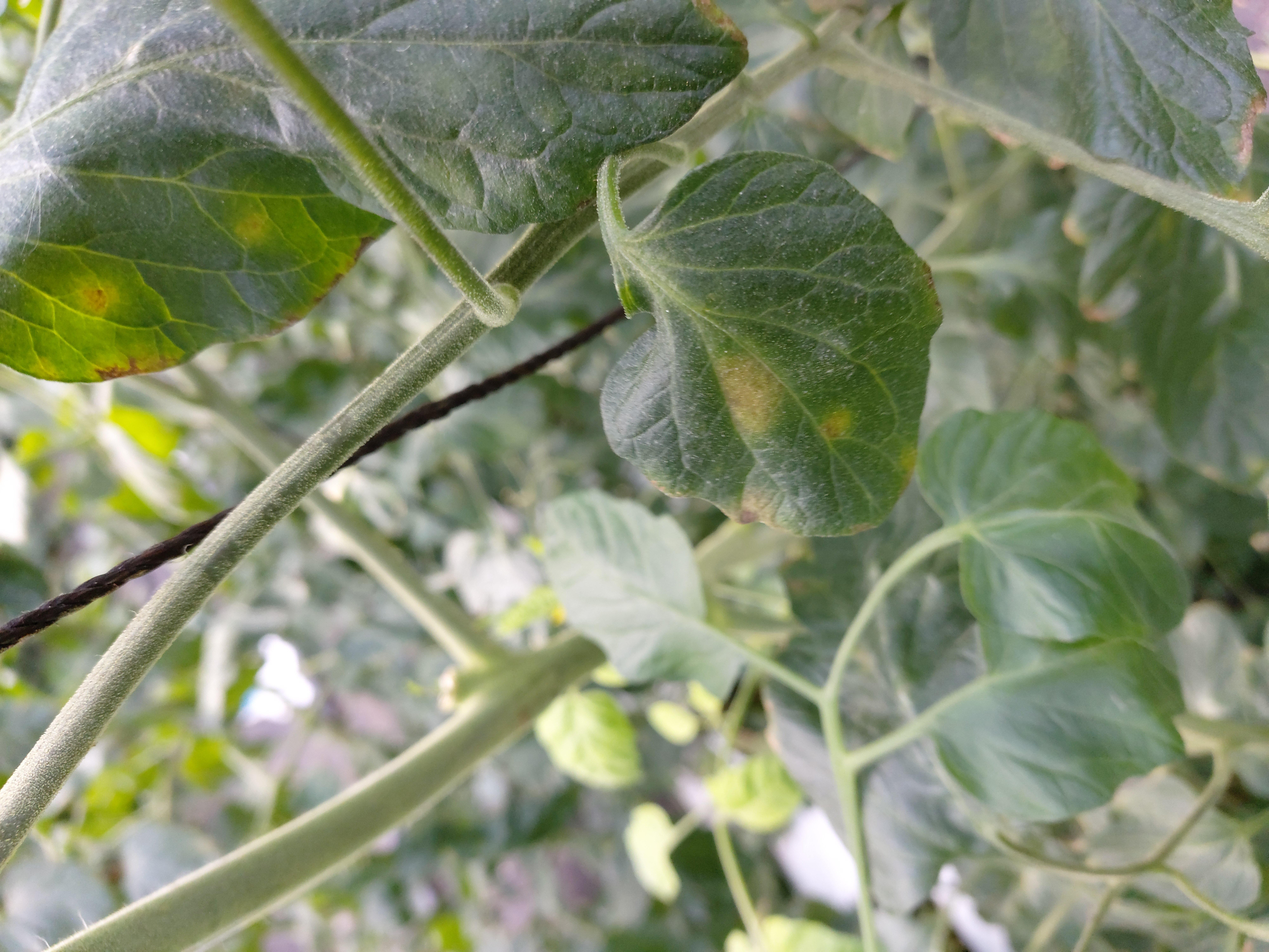Leaf Mold: (0, 0, 750, 387), (601, 148, 945, 543)
